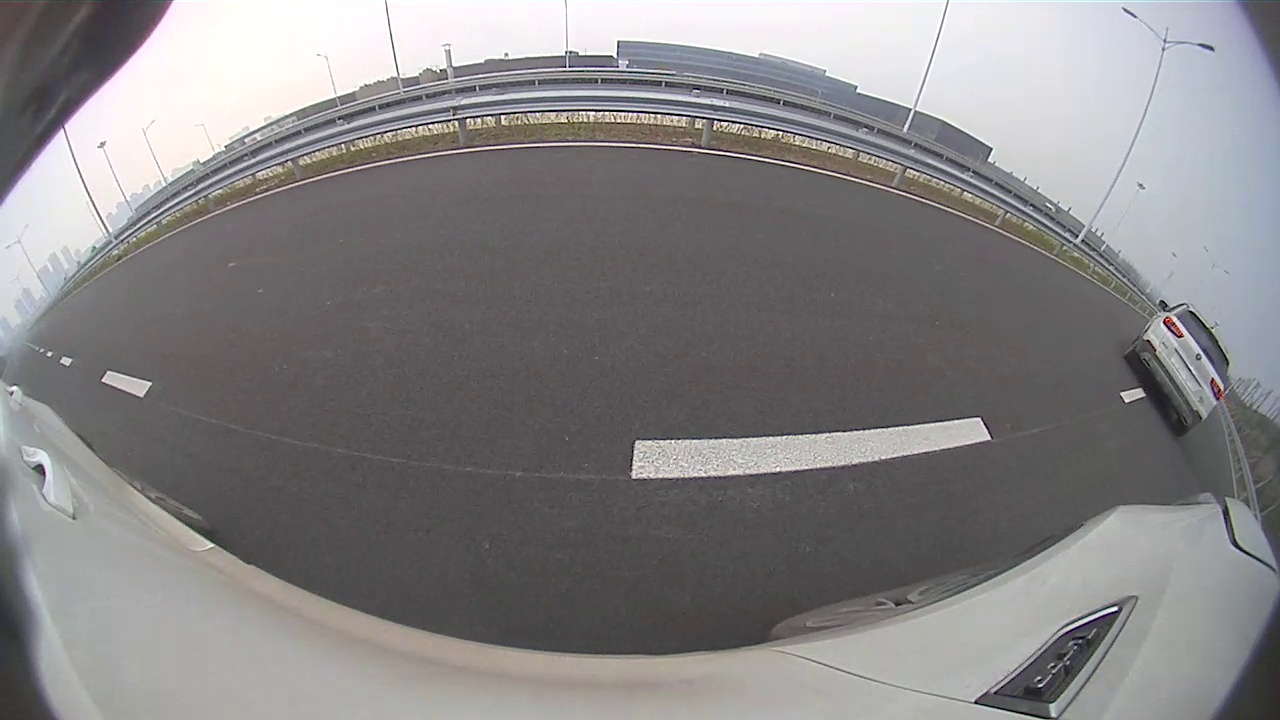car: (1126, 302, 1232, 437)
